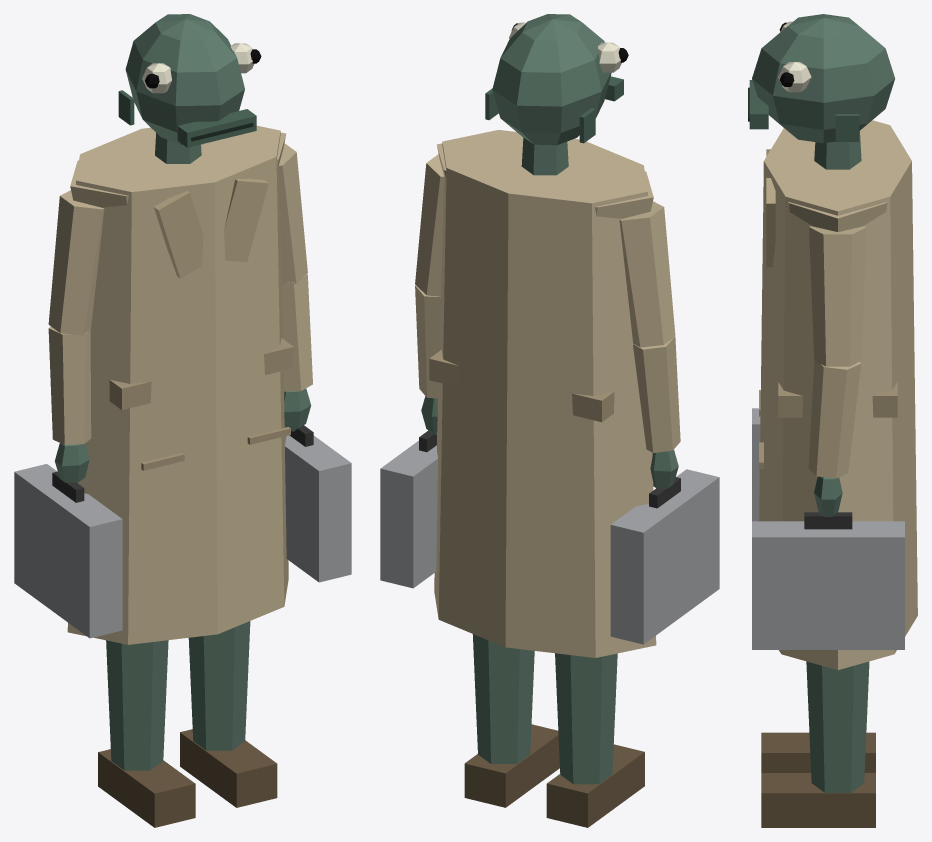
The model's file is 08-fish-man.glb.
3 renders of one model, left to right at view 1: azimuth 30°, elevation 25°; view 2: azimuth 150°, elevation 25°; view 3: azimuth 270°, elevation 25°, orthographic.
Parts seen in each view (by area): view 1: 08-fish-man-trench, 08-fish-man-case, 08-fish-man-fishhead, 08-fish-man-case.001, 08-fish-man-shin, 08-fish-man-shin.001, 08-fish-man-upperarm, 08-fish-man-foot, 08-fish-man-foot.001, 08-fish-man-forearm, 08-fish-man-upperarm.001, 08-fish-man-forearm.001 (+8 smaller); view 2: 08-fish-man-trench, 08-fish-man-case, 08-fish-man-fishhead, 08-fish-man-case.001, 08-fish-man-shin, 08-fish-man-shin.001, 08-fish-man-upperarm, 08-fish-man-foot, 08-fish-man-foot.001, 08-fish-man-forearm, 08-fish-man-upperarm.001, 08-fish-man-forearm.001 (+4 smaller); view 3: 08-fish-man-trench, 08-fish-man-case.001, 08-fish-man-fishhead, 08-fish-man-shin.001, 08-fish-man-upperarm.001, 08-fish-man-foot.001, 08-fish-man-forearm.001, 08-fish-man-foot, 08-fish-man-torso, 08-fish-man-belt, 08-fish-man-neck, 08-fish-man-hand.001 (+6 smaller).
Boxes of the visible parts, x1=… form: 08-fish-man-trench: x1=67, y1=125, x2=288, y2=644; 08-fish-man-case: x1=14, y1=464, x2=122, y2=638; 08-fish-man-fishhead: x1=125, y1=14, x2=244, y2=144; 08-fish-man-case.001: x1=285, y1=435, x2=351, y2=582; 08-fish-man-shin: x1=106, y1=640, x2=168, y2=770; 08-fish-man-shin.001: x1=188, y1=621, x2=250, y2=750; 08-fish-man-upperarm: x1=48, y1=190, x2=104, y2=335; 08-fish-man-foot: x1=98, y1=749, x2=195, y2=827; 08-fish-man-foot.001: x1=180, y1=729, x2=277, y2=807; 08-fish-man-forearm: x1=48, y1=326, x2=91, y2=444; 08-fish-man-upperarm.001: x1=279, y1=143, x2=307, y2=285; 08-fish-man-forearm.001: x1=282, y1=274, x2=312, y2=391; 08-fish-man-trench: x1=434, y1=130, x2=656, y2=657; 08-fish-man-case: x1=610, y1=469, x2=719, y2=644; 08-fish-man-fishhead: x1=492, y1=14, x2=611, y2=145; 08-fish-man-case.001: x1=380, y1=440, x2=437, y2=588; 08-fish-man-shin: x1=555, y1=653, x2=617, y2=784; 08-fish-man-shin.001: x1=472, y1=634, x2=534, y2=763; 08-fish-man-upperarm: x1=619, y1=201, x2=675, y2=347; 08-fish-man-foot: x1=546, y1=744, x2=644, y2=827; 08-fish-man-foot.001: x1=464, y1=724, x2=559, y2=807; 08-fish-man-forearm: x1=633, y1=337, x2=680, y2=452; 08-fish-man-upperarm.001: x1=415, y1=154, x2=444, y2=296; 08-fish-man-forearm.001: x1=415, y1=285, x2=440, y2=398; 08-fish-man-trench: x1=759, y1=120, x2=917, y2=670; 08-fish-man-case.001: x1=752, y1=521, x2=904, y2=649; 08-fish-man-fishhead: x1=752, y1=14, x2=895, y2=143; 08-fish-man-shin.001: x1=806, y1=661, x2=869, y2=792; 08-fish-man-upperarm.001: x1=809, y1=226, x2=866, y2=366; 08-fish-man-foot.001: x1=761, y1=773, x2=875, y2=827; 08-fish-man-forearm.001: x1=808, y1=361, x2=861, y2=478; 08-fish-man-foot: x1=761, y1=732, x2=875, y2=772; 08-fish-man-torso: x1=788, y1=202, x2=887, y2=231; 08-fish-man-belt: x1=778, y1=382, x2=897, y2=417; 08-fish-man-neck: x1=814, y1=131, x2=861, y2=169; 08-fish-man-hand.001: x1=814, y1=476, x2=842, y2=516.
Bounding box in the file's own units: 0.64 × 1.8 × 0.3554.
